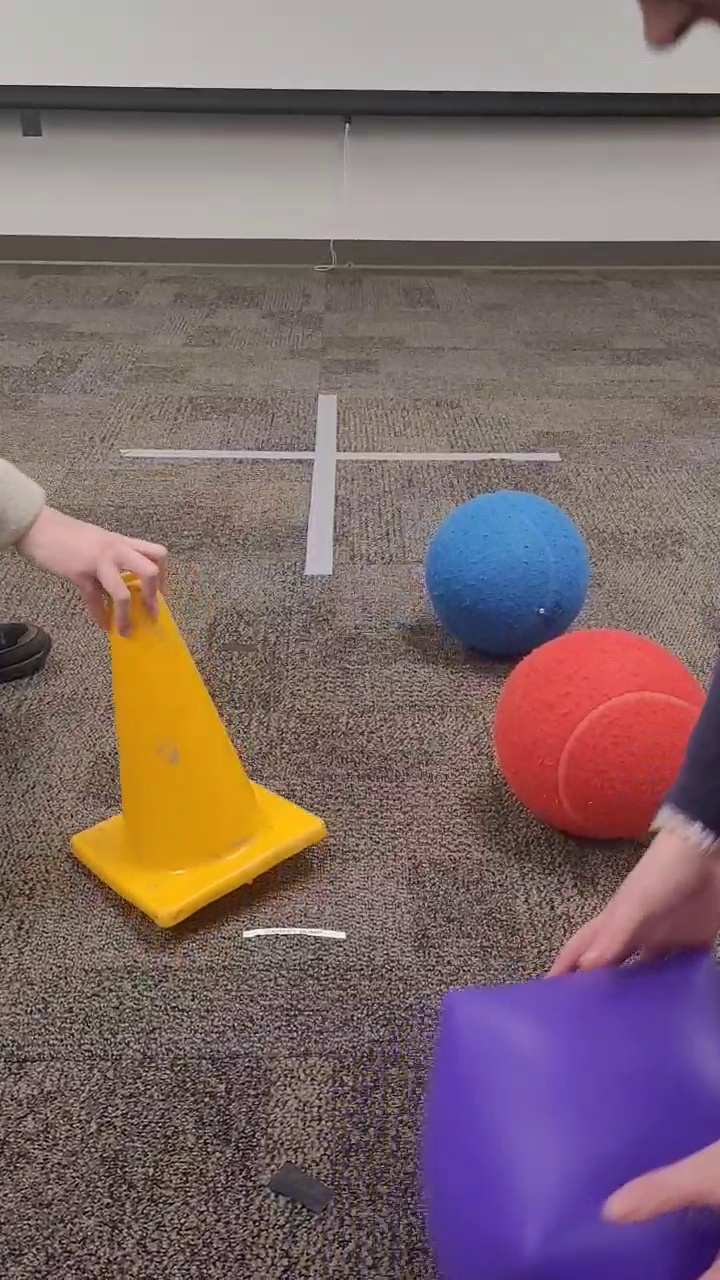ball: (489, 627, 713, 851), (423, 488, 593, 661)
cone: (65, 565, 331, 943)
cube: (412, 954, 717, 1277)
face: (626, 3, 719, 57)
foot: (1, 615, 59, 691)
hand: (545, 637, 720, 984), (1, 448, 174, 634), (598, 1127, 718, 1279)
